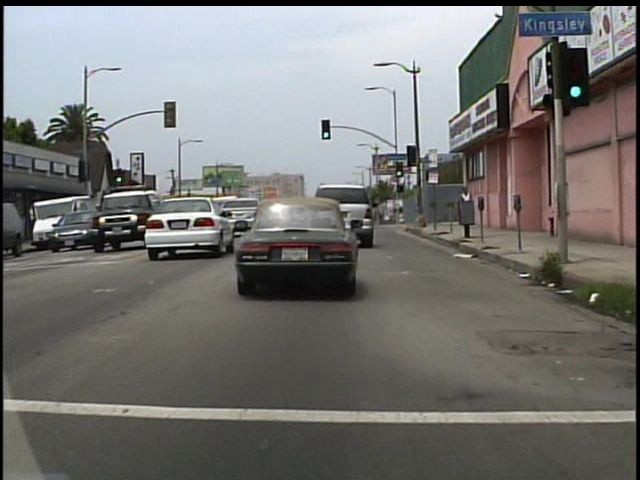person: (458, 184, 473, 229)
